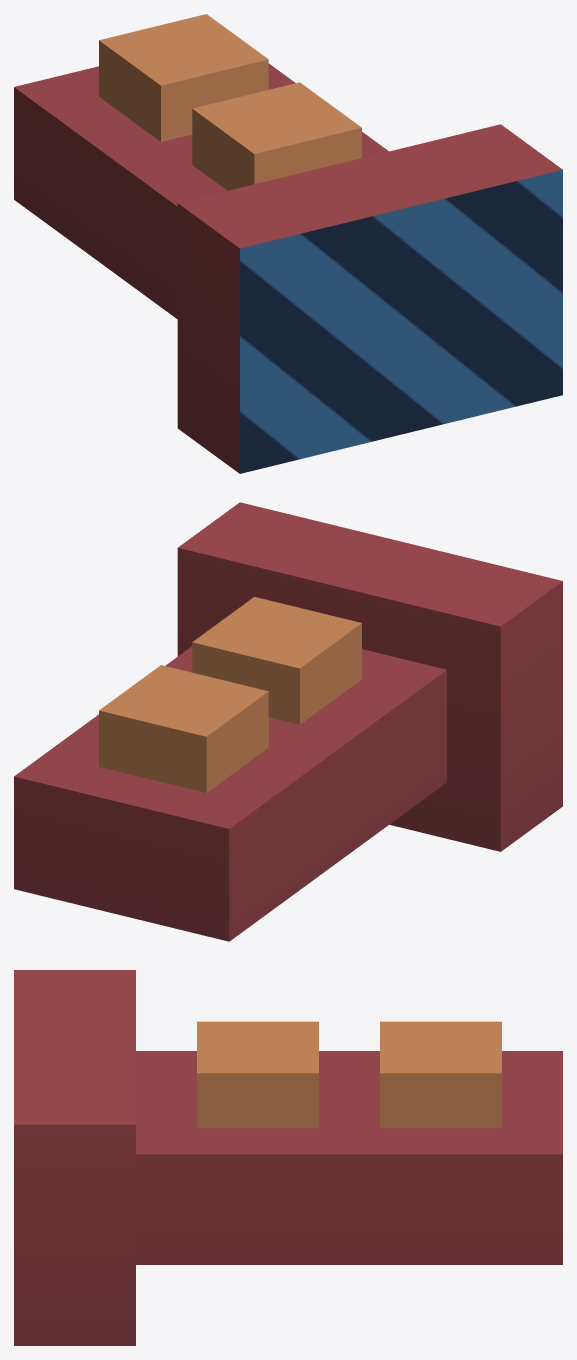
The model's file is PartE.fbx.
The picture shows the model from 3 angles, top to bottom: view 1: azimuth 30°, elevation 25°; view 2: azimuth 150°, elevation 25°; view 3: azimuth 270°, elevation 25°; orthographic projection.
Visible parts, largest first — view 1: PartE; view 2: PartE; view 3: PartE.
Boxes of the visible parts, x1,y1,x2,y2 form: PartE: (14,14,562,473); PartE: (14,502,562,941); PartE: (14,970,562,1345).
Size of the model in its own units: 60 by 40 by 90.
